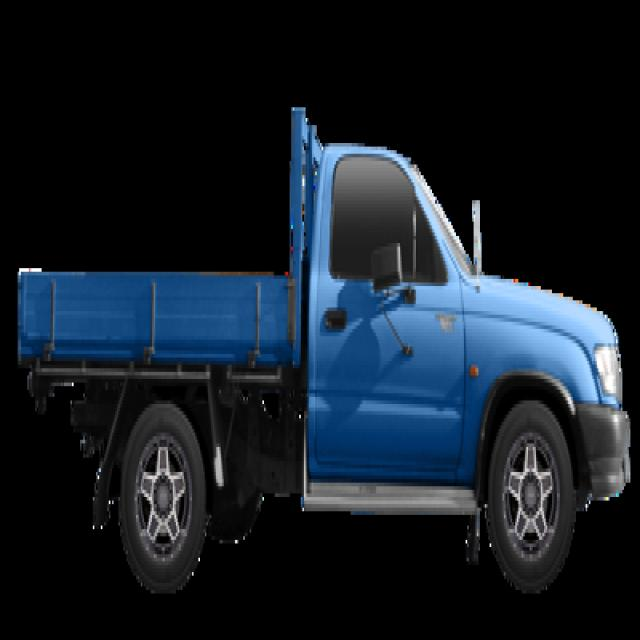light_vehicle: (14, 111, 634, 586)
